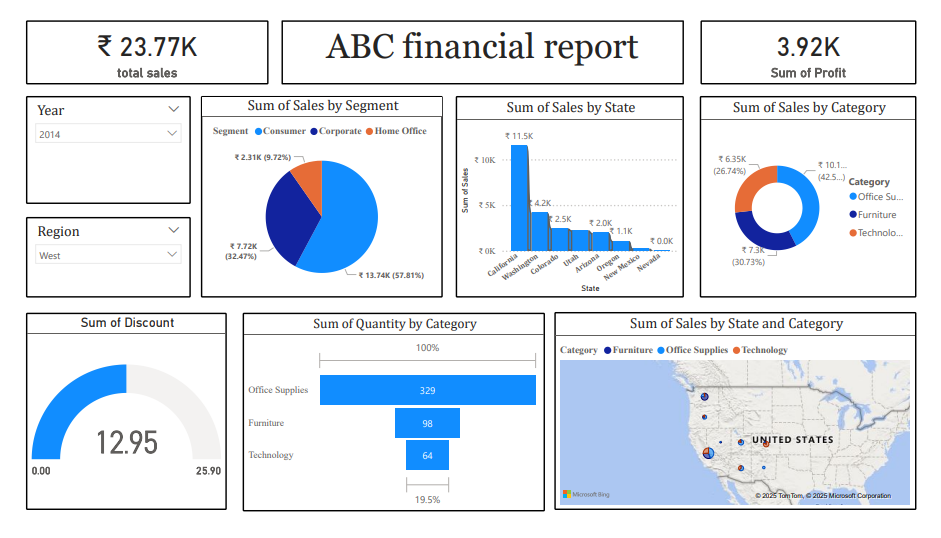

What the dashboard file says about the page in this screenshot:
{"tool":"powerbi","page":{"name":"Page 1","canvas":[1280,720],"ordinal":0},"visuals":[{"type":"textbox","box":[374.3,14.3,558.6,88.6],"z":0},{"type":"card","fields":{"Values":["Sample - Superstore (2).total sales"]},"box":[18.6,14.3,337.1,88.6],"z":1000},{"type":"card","fields":{"Values":["Sum(Sample - Superstore (2).Profit)"]},"box":[955.7,14.3,300,88.6],"z":2000},{"type":"pieChart","fields":{"Y":["Sum(Sample - Superstore (2).Sales)"],"Category":["Sample - Superstore (2).Segment"]},"box":[262.1,119.4,336.2,279.9],"z":3000},{"type":"columnChart","fields":{"Y":["Sum(Sample - Superstore (2).Sales)"],"Category":["Sample - Superstore (2).State"]},"box":[616.1,119.4,317,279.9],"z":4000},{"type":"donutChart","fields":{"Y":["Sum(Sample - Superstore (2).Sales)"],"Category":["Sample - Superstore (2).Category"]},"box":[955.1,119.4,300.5,279.9],"z":5000},{"type":"slicer","fields":{"Values":["Sample - Superstore (2).Year"]},"box":[19.2,119.4,229.2,149.6],"z":6000},{"type":"slicer","fields":{"Values":["Sample - Superstore (2).Region"]},"box":[19.2,286.8,229.2,112.5],"z":7000},{"type":"map","fields":{"Series":["Sample - Superstore (2).Category"],"Size":["Sum(Sample - Superstore (2).Sales)"],"Category":["Sample - Superstore (2).State"]},"box":[753.3,418.5,502.2,275.8],"z":8000},{"type":"funnel","fields":{"Category":["Sample - Superstore (2).Category"],"Y":["Sum(Sample - Superstore (2).Quantity)"]},"box":[319.7,419.9,419.9,275.8],"z":9000},{"type":"gauge","fields":{"Y":["Sum(Sample - Superstore (2).Discount)"]},"box":[19.2,419.9,278.6,274.4],"z":10000}]}

Visuals, with their boxes in screenshot pixels (x1, y1, x2, y2), scaled from the page's 1280x720 canvas onto the 941x538 screenshot:
textbox: bbox(275, 11, 686, 77)
card - Sample - Superstore (2).total sales: bbox(14, 11, 261, 77)
card - Sum(Sample - Superstore (2).Profit): bbox(703, 11, 923, 77)
pieChart - Sum(Sample - Superstore (2).Sales) x Sample - Superstore (2).Segment: bbox(193, 89, 440, 298)
columnChart - Sum(Sample - Superstore (2).Sales) x Sample - Superstore (2).State: bbox(453, 89, 686, 298)
donutChart - Sum(Sample - Superstore (2).Sales) x Sample - Superstore (2).Category: bbox(702, 89, 923, 298)
slicer - Sample - Superstore (2).Year: bbox(14, 89, 183, 201)
slicer - Sample - Superstore (2).Region: bbox(14, 214, 183, 298)
map - Sample - Superstore (2).Category x Sum(Sample - Superstore (2).Sales): bbox(554, 313, 923, 519)
funnel - Sample - Superstore (2).Category x Sum(Sample - Superstore (2).Quantity): bbox(235, 314, 544, 520)
gauge - Sum(Sample - Superstore (2).Discount): bbox(14, 314, 219, 519)
